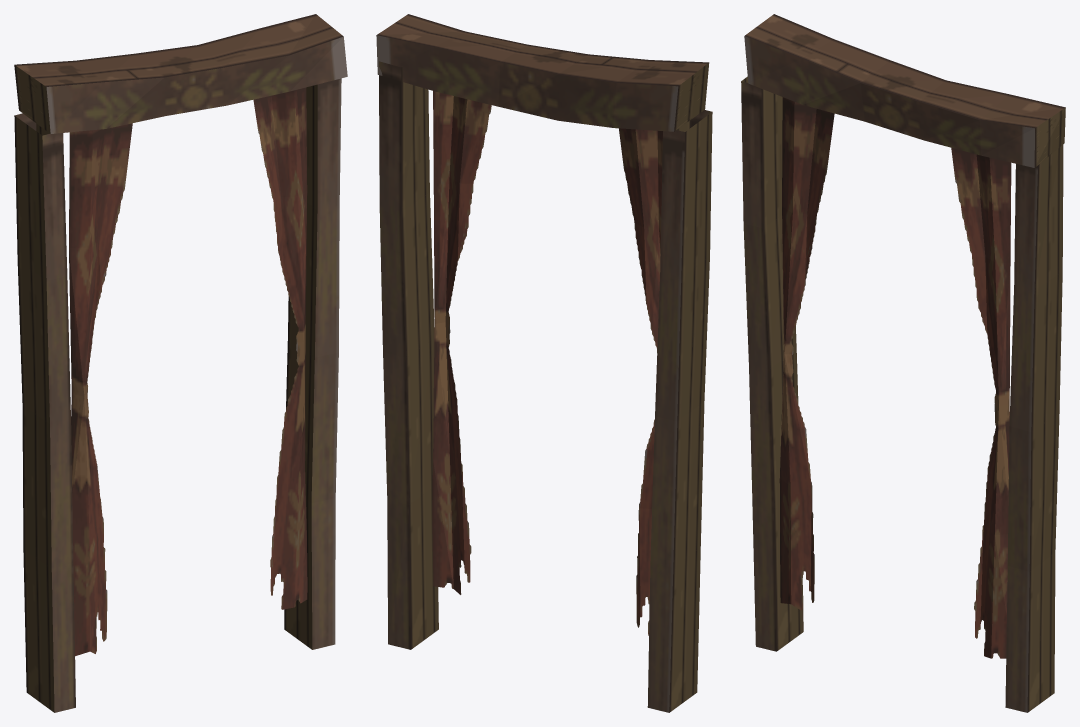
The model's file is SM_CurtainedDoorway.fbx.
3 renders of one model, left to right at view 1: azimuth 30°, elevation 25°; view 2: azimuth 150°, elevation 25°; view 3: azimuth 330°, elevation 25°, orthographic. The views are drawn at different scales.
Parts seen in each view (by area): view 1: Curtain_Frame, Curtain_Right, Curtain_Left; view 2: Curtain_Frame, Curtain_Left, Curtain_Right; view 3: Curtain_Frame, Curtain_Left, Curtain_Right.
Part boxes in pixels (x1,y1,x2,y2): Curtain_Frame: [14, 14, 347, 712]; Curtain_Right: [69, 123, 132, 656]; Curtain_Left: [253, 87, 307, 609]; Curtain_Frame: [376, 14, 712, 712]; Curtain_Left: [432, 91, 491, 594]; Curtain_Right: [619, 128, 662, 635]; Curtain_Frame: [741, 14, 1065, 712]; Curtain_Left: [951, 148, 1011, 658]; Curtain_Right: [779, 97, 834, 610].
Bounding box in the file's own units: 1.14 × 2.24 × 0.2154.
